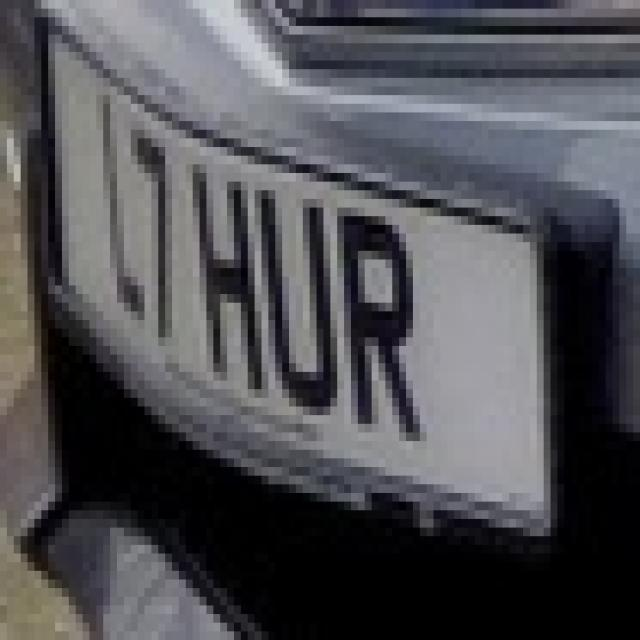LicensePlate: (32, 16, 568, 530)
